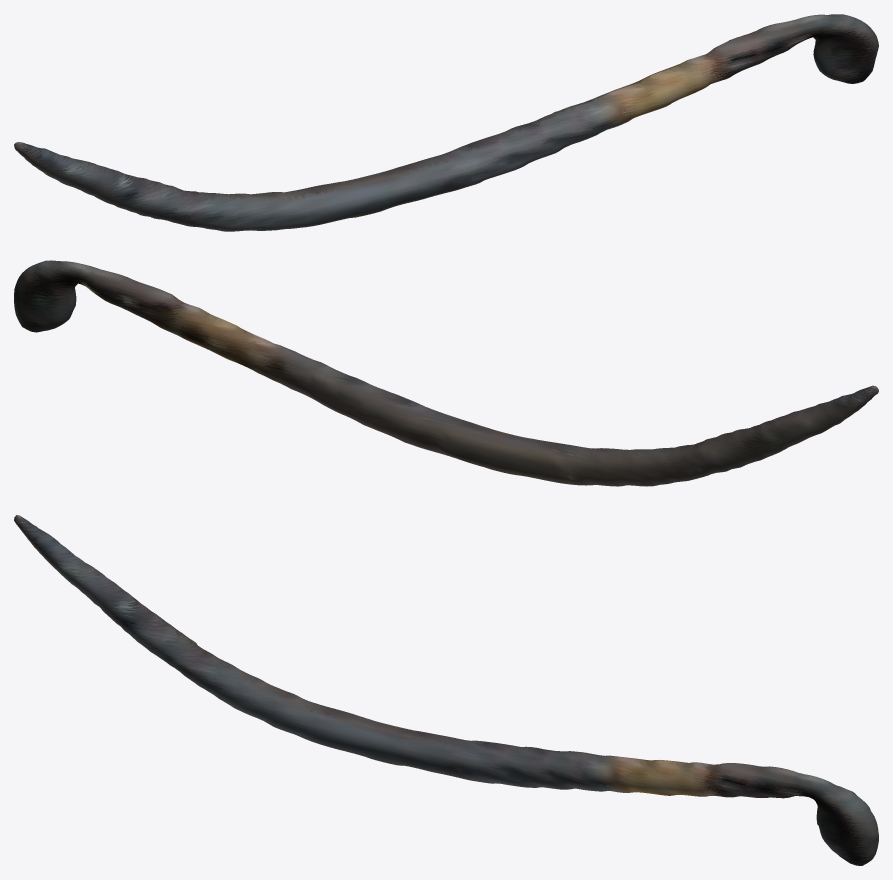
File: kfl-2313.glb
3 renders of one model, top to bottom at view 1: azimuth 30°, elevation 25°; view 2: azimuth 150°, elevation 25°; view 3: azimuth 330°, elevation 25°, orthographic.
Parts seen in each view (by area): view 1: geometry_0; view 2: geometry_0; view 3: geometry_0.
Part boxes in pixels (x1=…): geometry_0: x1=14, y1=14, x2=878, y2=231; geometry_0: x1=14, y1=260, x2=878, y2=486; geometry_0: x1=14, y1=515, x2=878, y2=865.
Size of the model in its own units: 0.9887 by 0.1816 by 0.0504.
1 material, 1 textured.
